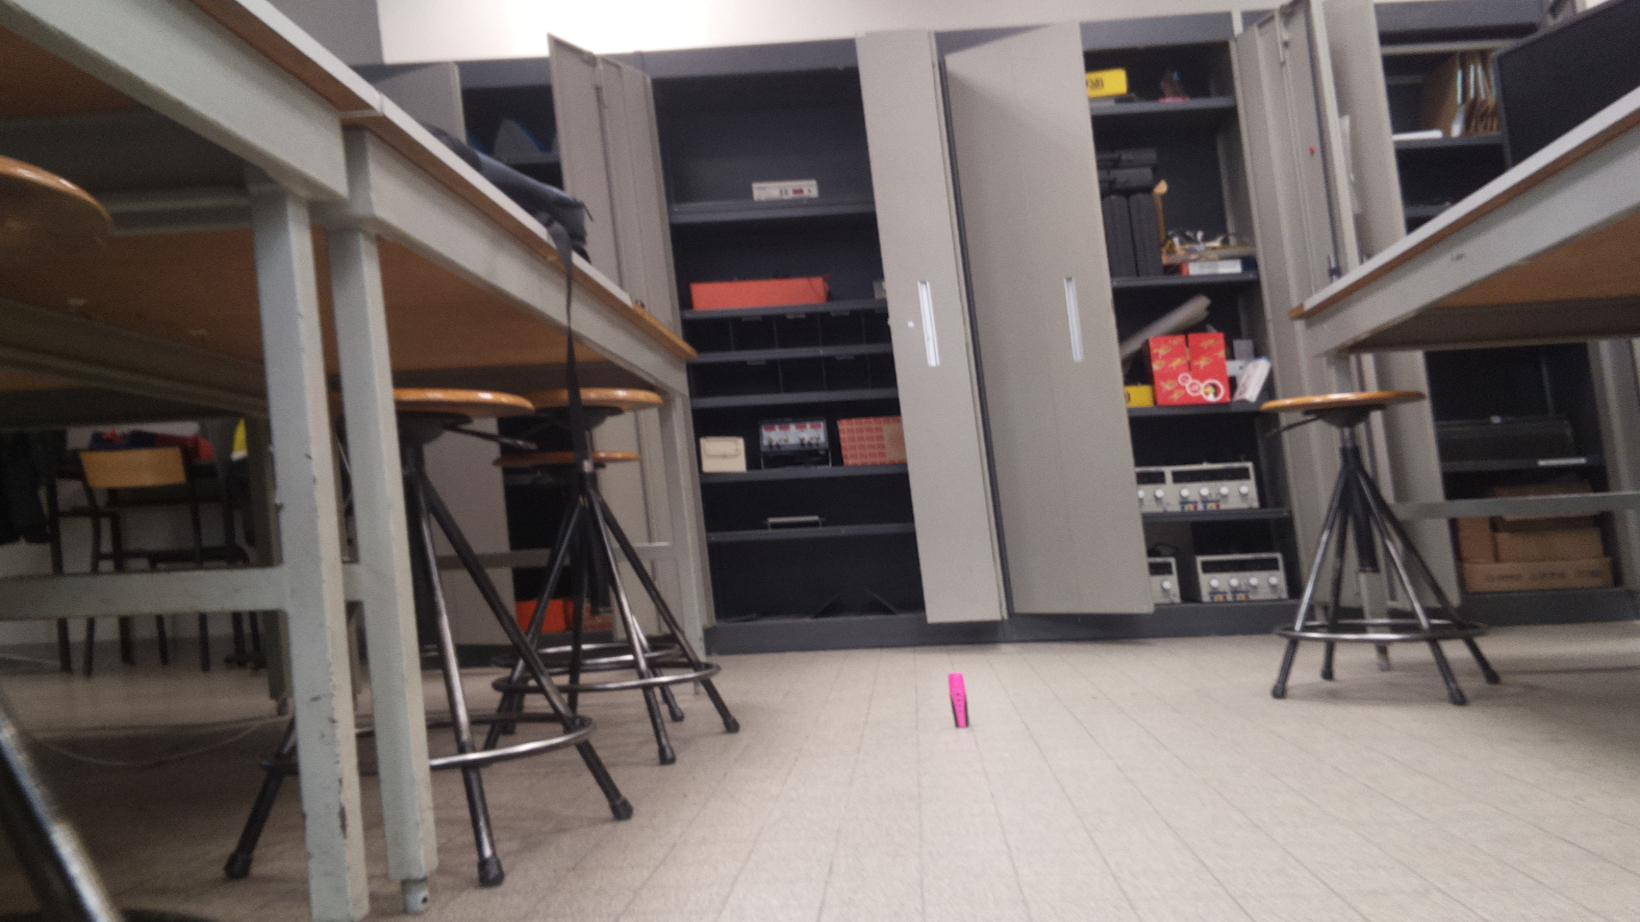small: (941, 666, 980, 732)
